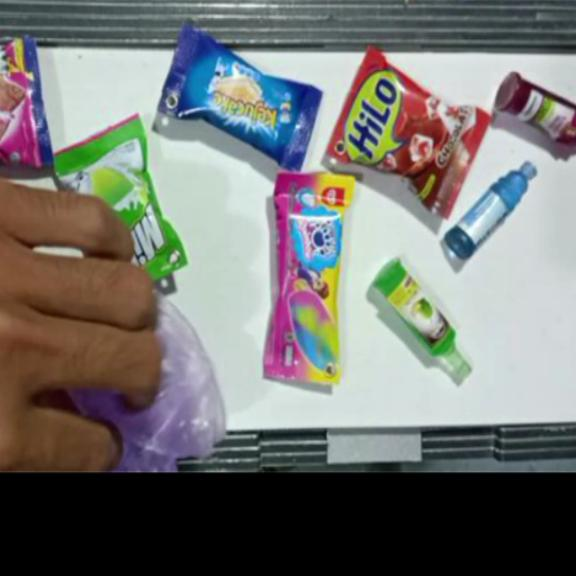Plastik: (64, 286, 227, 472), (326, 42, 492, 220), (158, 20, 322, 172), (51, 115, 188, 280), (263, 171, 355, 384), (372, 256, 472, 383), (444, 160, 538, 261), (0, 36, 56, 169), (496, 72, 573, 150)
